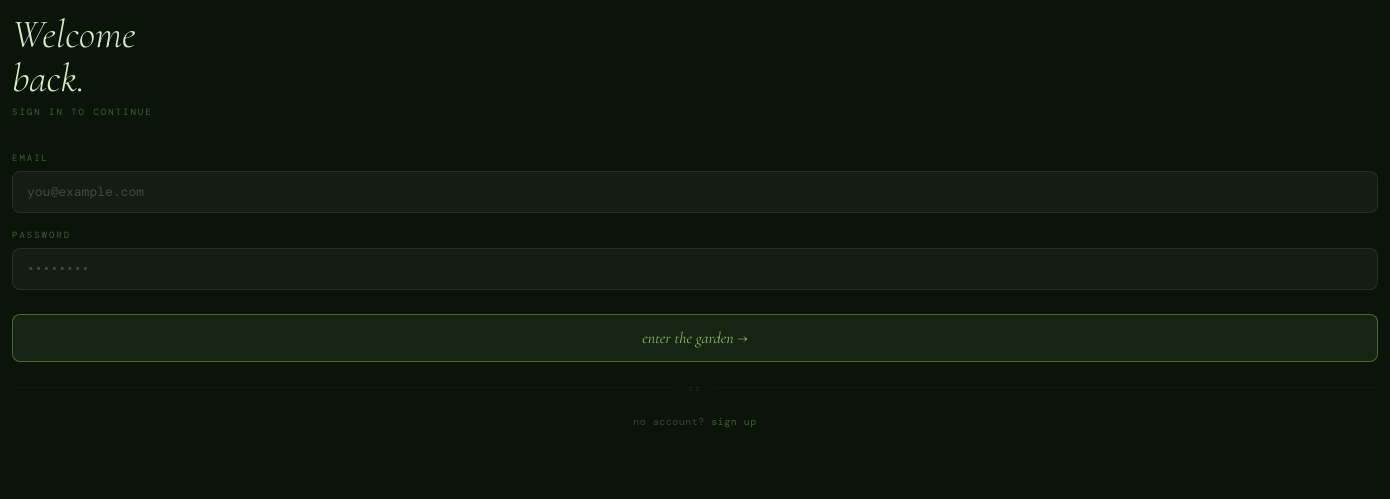
Test case: auth flow › shows an error for invalid login credentials
This screenshot has width=1390, height=499.
Type "ghost@garden.com" into the field with test id "auth-login-email".
click(695, 192); type("ghost@garden.com")  # box [12,171,1378,212]
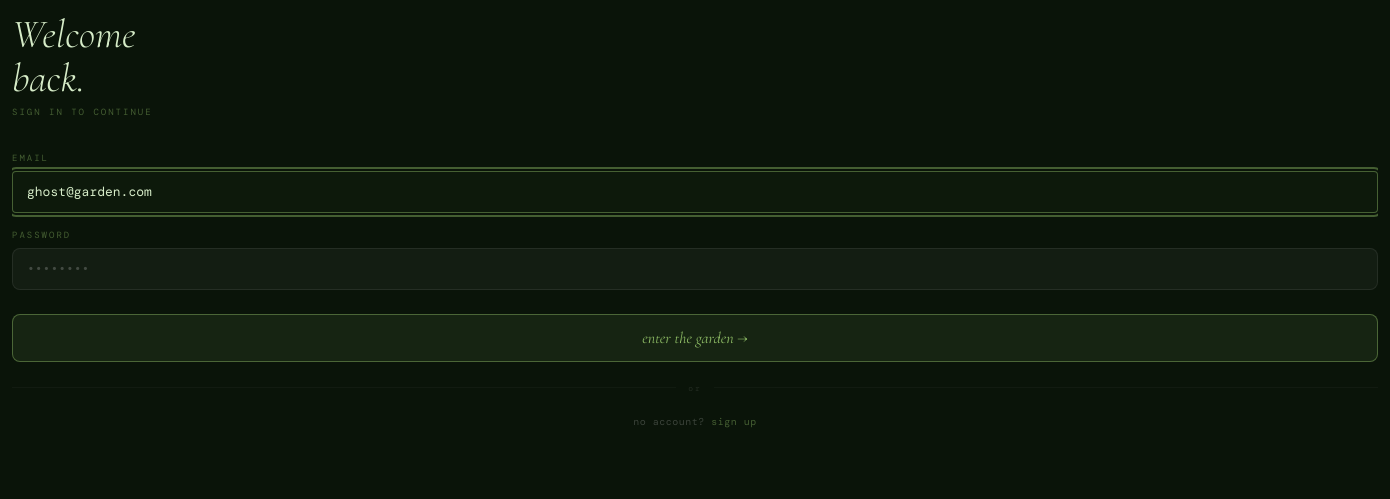
Type "wrongpass" into the password field with test id "auth-login-password".
click(695, 269); type("wrongpass")  # box [12,248,1378,290]
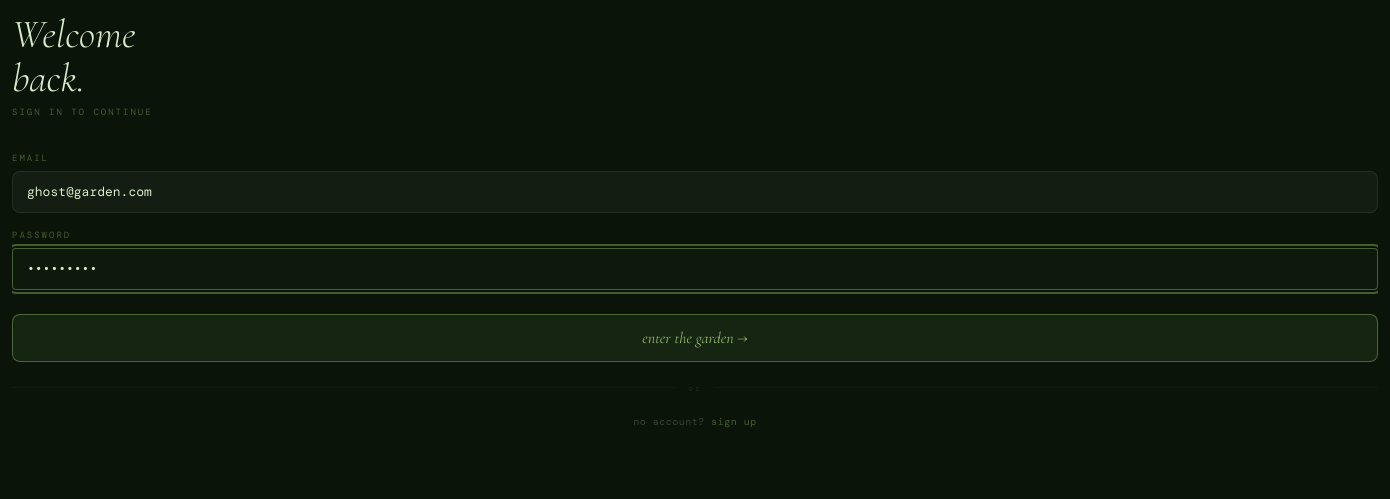
Click the button with test id "auth-login-submit".
click(695, 338)  # box [12,314,1378,362]
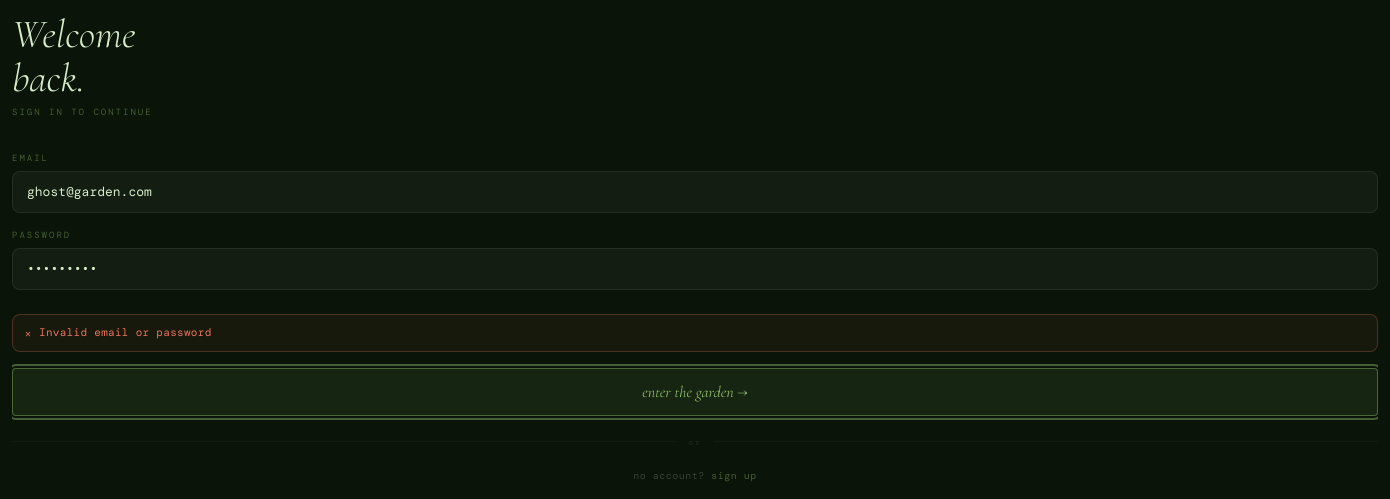
Expected: the message shows "Invalid email or password", [39,324,212,338]
